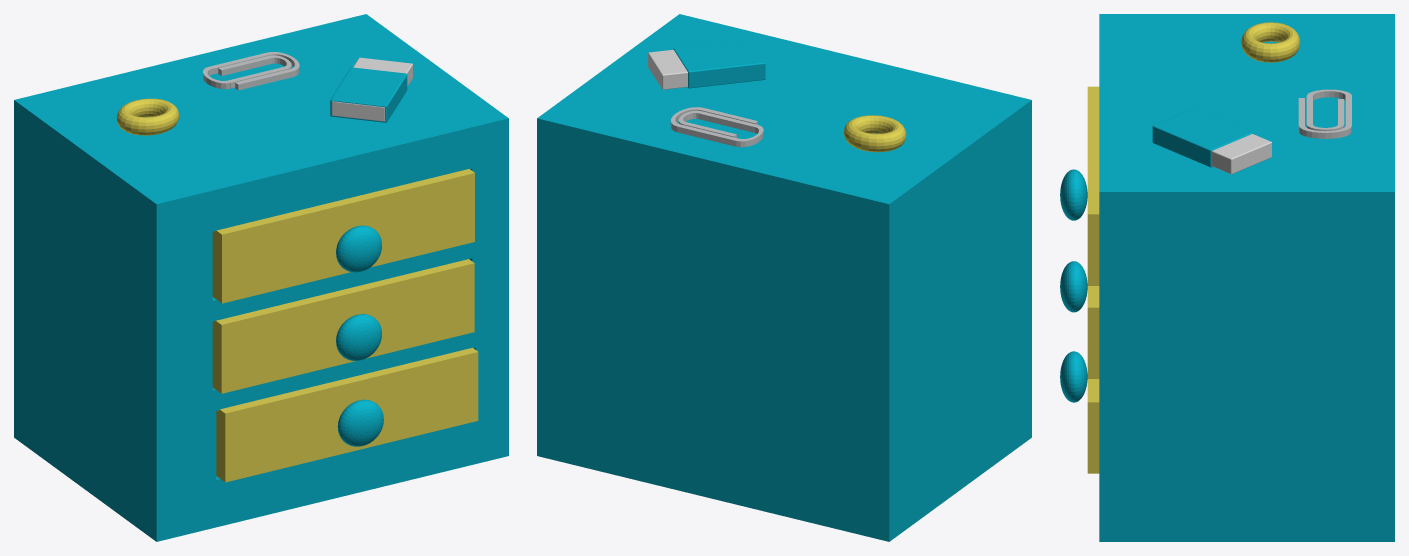
Rendered from Bedside Table.glb.
3 views of the same model, side by side, from view 1: azimuth 30°, elevation 25°; view 2: azimuth 150°, elevation 25°; view 3: azimuth 270°, elevation 25° (orthographic). The views are drawn at different scales.
Parts seen in each view (by area): view 1: Mesh_Mesh_head_geo.001_lambert2SG.001; view 2: Mesh_Mesh_head_geo.001_lambert2SG.001; view 3: Mesh_Mesh_head_geo.001_lambert2SG.001.
Part boxes in pixels (x1,y1,x2,y2): Mesh_Mesh_head_geo.001_lambert2SG.001: [14, 14, 508, 541]; Mesh_Mesh_head_geo.001_lambert2SG.001: [537, 14, 1031, 541]; Mesh_Mesh_head_geo.001_lambert2SG.001: [1060, 14, 1394, 541].
Bounding box in the file's own units: 107 × 103 × 85.
